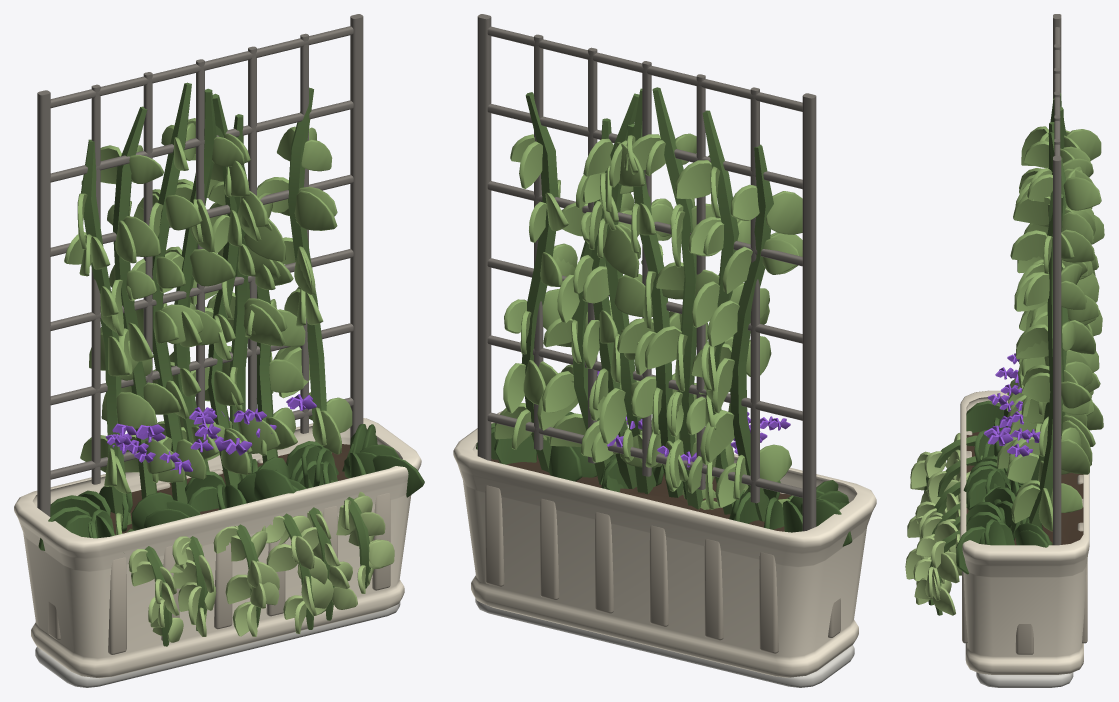
The model's file is jard_treillis.glb.
3 renders of one model, left to right at view 1: azimuth 30°, elevation 25°; view 2: azimuth 150°, elevation 25°; view 3: azimuth 270°, elevation 25°, orthographic. The views are drawn at different scales.
Visible parts, largest first — view 1: JTR_Feuille_Clair, JTR_Pot_Creme, JTR_Metal, JTR_Tige, JTR_Feuille_Tendre, JTR_Feuille_Fonce, JTR_Nervures, JTR_Fl_Violet, JTR_Embase, JTR_Terre; view 2: JTR_Feuille_Clair, JTR_Pot_Creme, JTR_Metal, JTR_Tige, JTR_Nervures, JTR_Feuille_Fonce, JTR_Embase, JTR_Terre, JTR_Fl_Violet; view 3: JTR_Feuille_Clair, JTR_Pot_Creme, JTR_Feuille_Fonce, JTR_Feuille_Tendre, JTR_Tige, JTR_Metal, JTR_Fl_Violet, JTR_Nervures, JTR_Terre, JTR_Embase.
Part boxes in pixels (<box>): JTR_Feuille_Clair: <box>64,118,352,535</box>; JTR_Pot_Creme: <box>14,418,421,678</box>; JTR_Metal: <box>37,14,363,516</box>; JTR_Tige: <box>80,82,370,646</box>; JTR_Feuille_Tendre: <box>128,491,394,642</box>; JTR_Feuille_Fonce: <box>38,424,424,550</box>; JTR_Nervures: <box>48,458,390,654</box>; JTR_Fl_Violet: <box>105,394,316,474</box>; JTR_Embase: <box>35,602,400,687</box>; JTR_Terre: <box>110,444,350,534</box>; JTR_Feuille_Clair: <box>494,133,802,509</box>; JTR_Pot_Creme: <box>453,411,876,677</box>; JTR_Metal: <box>477,14,816,531</box>; JTR_Tige: <box>521,87,793,521</box>; JTR_Nervures: <box>485,485,840,653</box>; JTR_Feuille_Fonce: <box>476,412,852,546</box>; JTR_Embase: <box>475,598,854,687</box>; JTR_Terre: <box>491,454,790,531</box>; JTR_Fl_Violet: <box>597,371,790,467</box>; JTR_Feuille_Clair: <box>996,126,1104,531</box>; JTR_Pot_Creme: <box>960,390,1089,674</box>; JTR_Feuille_Fonce: <box>956,400,1052,574</box>; JTR_Feuille_Tendre: <box>905,433,970,615</box>; JTR_Tige: <box>924,93,1068,615</box>; JTR_Metal: <box>1053,14,1061,545</box>; JTR_Fl_Violet: <box>984,353,1040,456</box>; JTR_Nervures: <box>962,431,1087,654</box>; JTR_Terre: <box>966,432,1083,545</box>; JTR_Embase: <box>976,672,1073,687</box>.
Size of the model in its own units: 1.2 by 1.8 by 0.6167.
